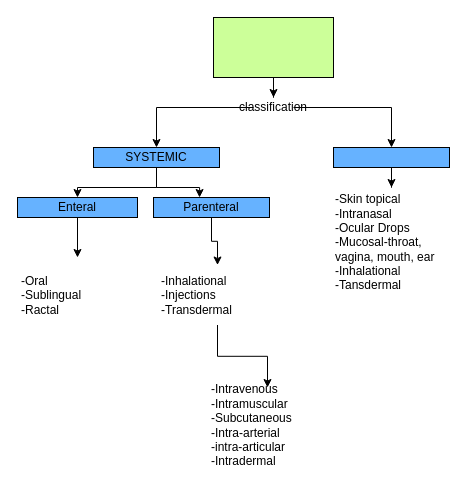
This 467x485 diagram has some shape labels left out. Here are the shapes that lost their labels. From the top down, the box of each, then its label:
(212, 16, 334, 78): ROUTES OF DRUG ADMINISTRATION
(332, 146, 450, 168): LOCAL
